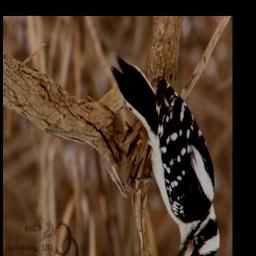Woodpecker: (110, 50, 222, 256)
